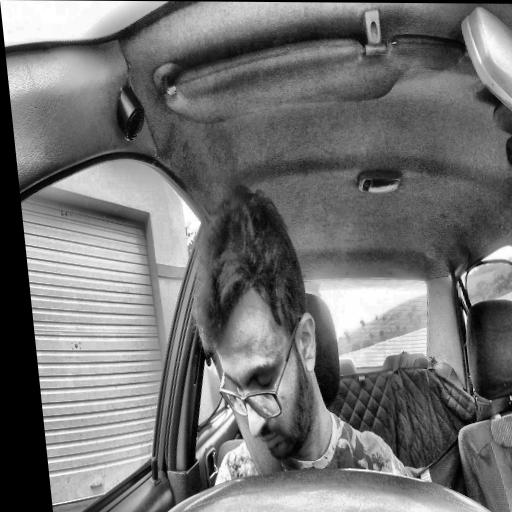drowsy: (180, 179, 331, 467)
